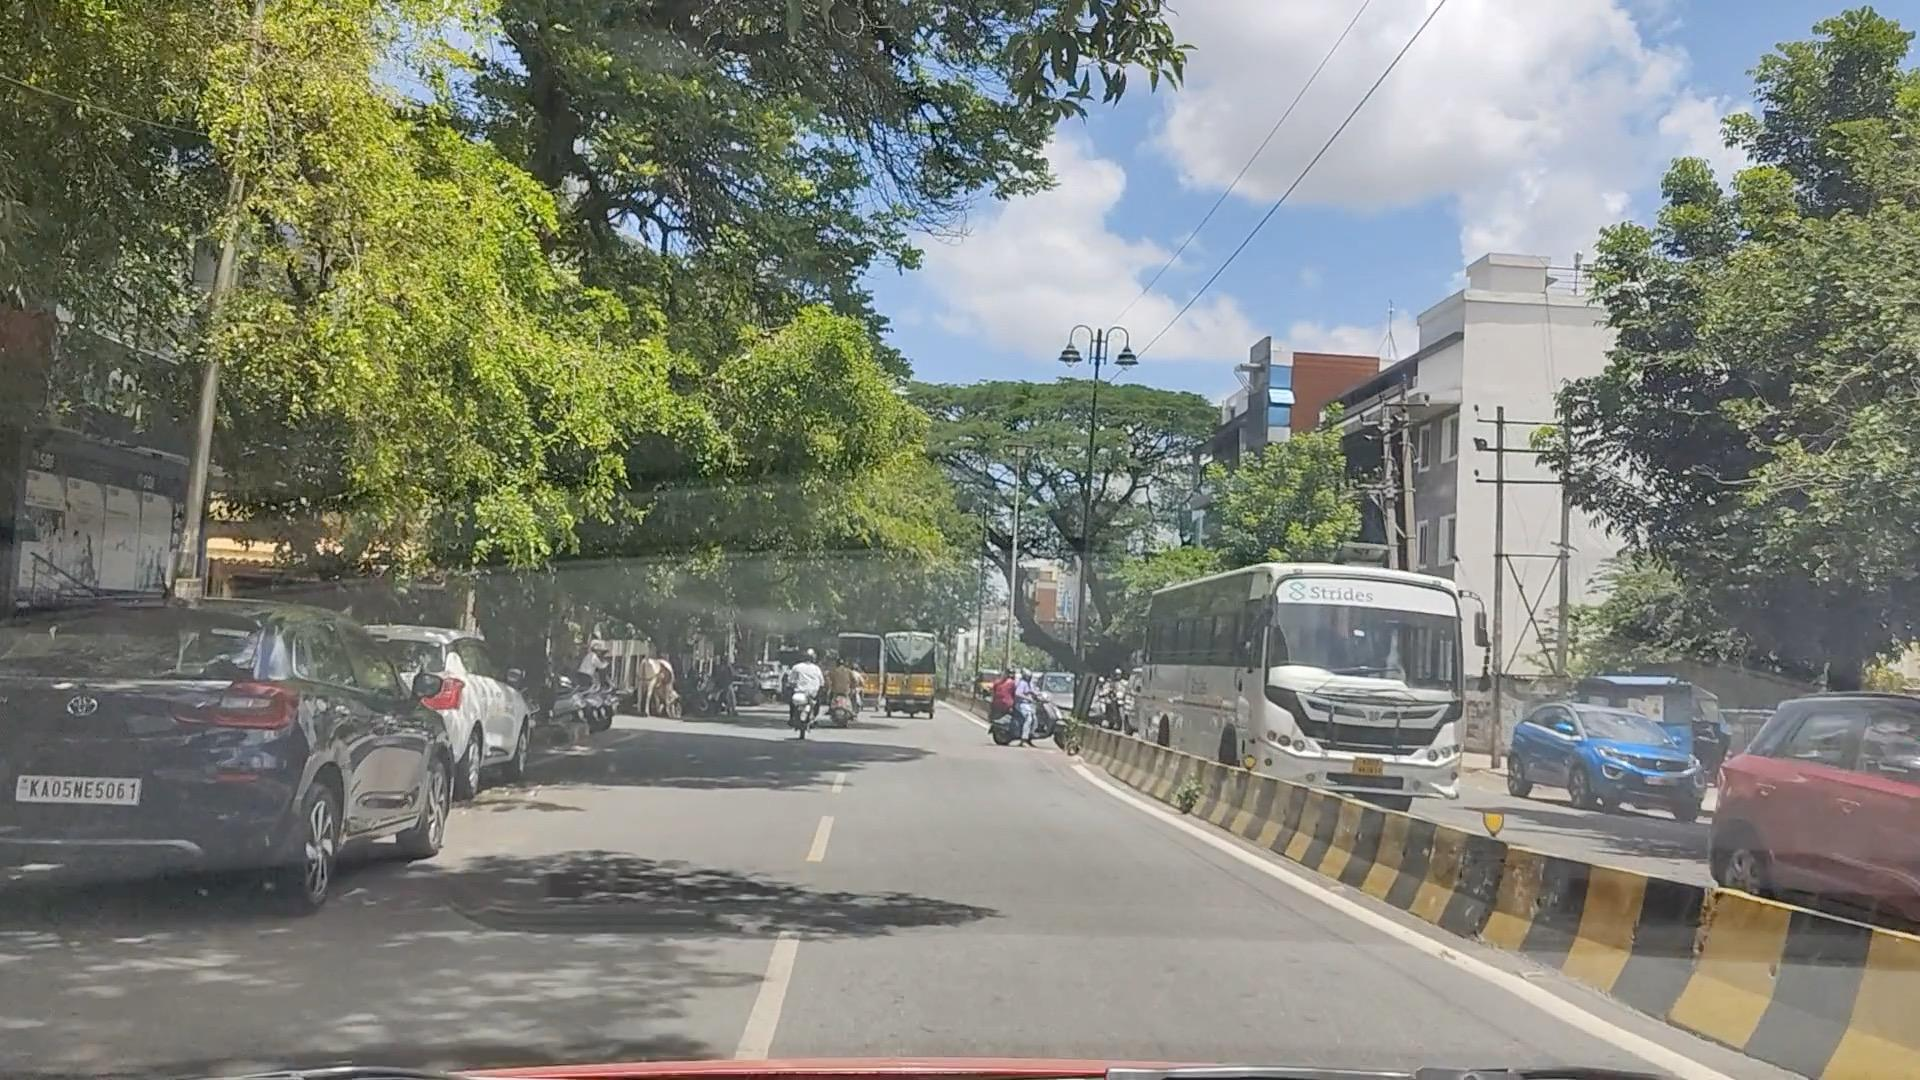LMV: (980, 663, 1059, 745), (777, 640, 831, 740)
